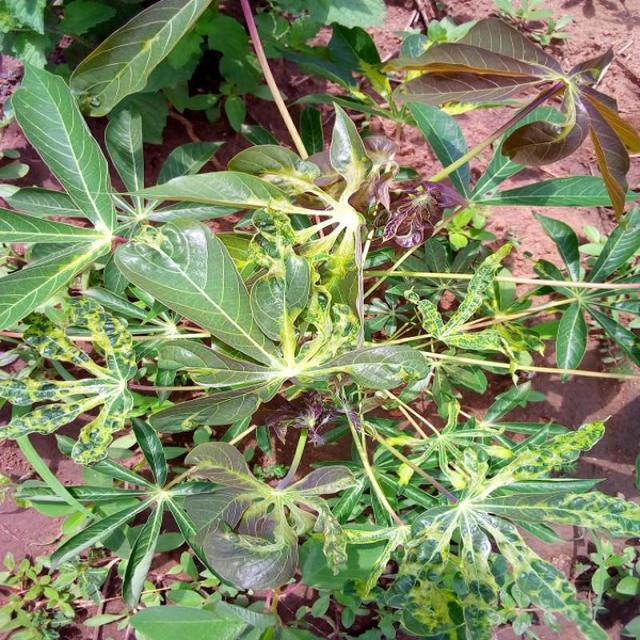cassava leaf: (0, 4, 638, 637), (112, 215, 282, 368), (10, 61, 116, 236), (66, 0, 210, 118)
